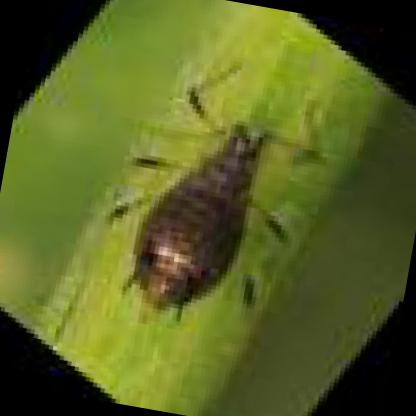uroleucon compositae: (134, 63, 314, 312)
